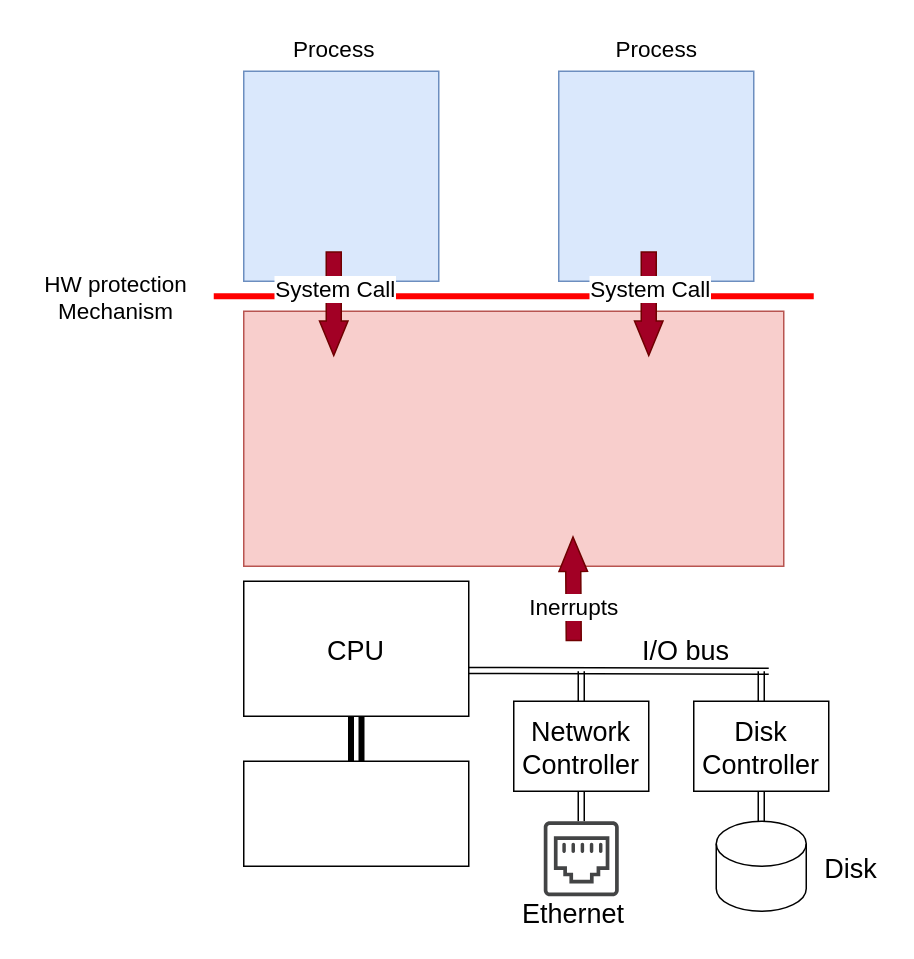
Some shapes in this 914 by 959 pixel diagram are drawn without their labels. The centre of each missing label's shape, as x and y in pixels:
Kernel: point (513, 438)
Memory: point (355, 813)
